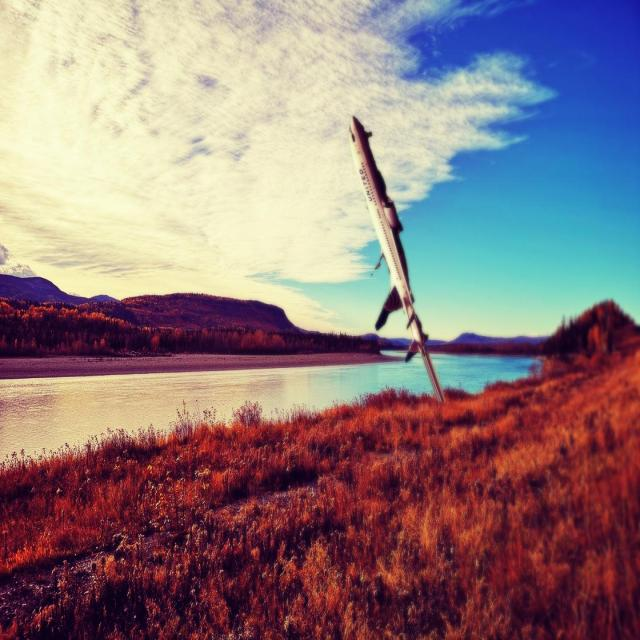airplane: (348, 114, 446, 403)
